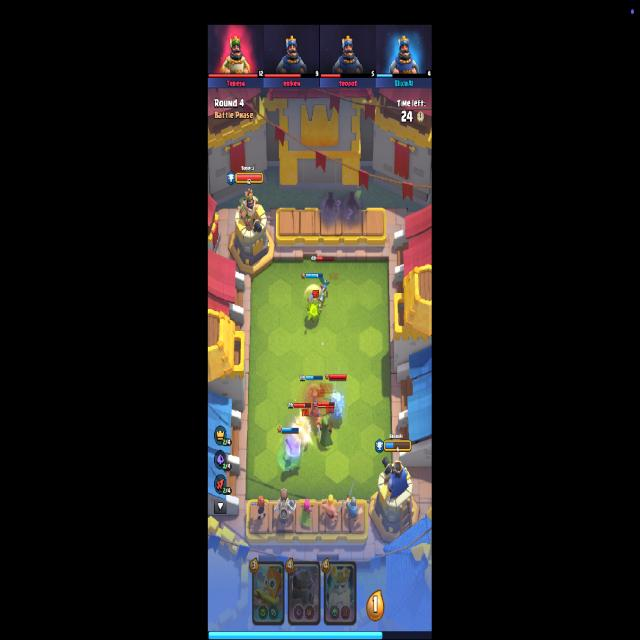archer: (299, 498, 313, 527)
bandit: (280, 437, 302, 477), (316, 416, 334, 452)
barbarian: (321, 495, 344, 525)
card_dart_goblin: (252, 559, 286, 628)
card_mega_knight: (288, 558, 322, 626)
card_royal_ghost: (323, 561, 356, 627)
dart_goblin: (318, 274, 330, 298)
giant_skeleton: (273, 489, 296, 526)
knight: (345, 481, 365, 527), (307, 390, 322, 428)
prince: (305, 293, 324, 323)
royal_ghost: (328, 390, 346, 422)
valkyrie: (251, 496, 267, 520)
